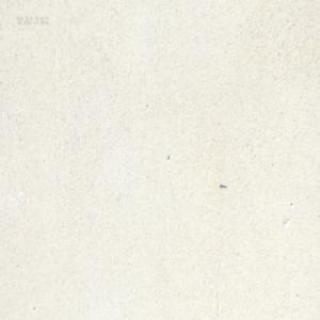Nailtrack_idkeyframe: (219, 182, 226, 188)
